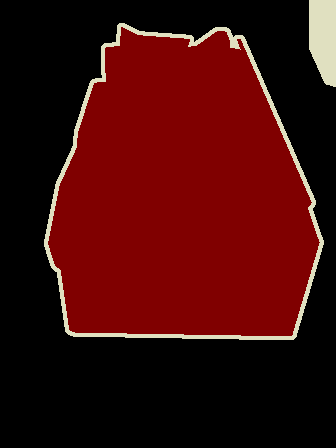sofa: (45, 27, 325, 343)
